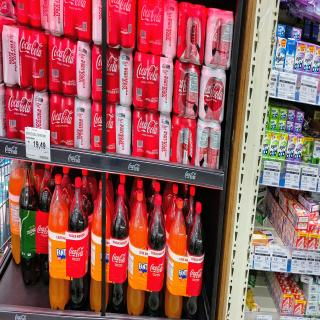beverage: (48, 172, 68, 307), (70, 174, 88, 308), (21, 160, 38, 292), (110, 183, 127, 313), (187, 199, 205, 320), (129, 189, 146, 315), (92, 182, 108, 311), (147, 196, 163, 316), (171, 196, 186, 320), (38, 160, 48, 291), (9, 158, 20, 268), (31, 24, 48, 94), (76, 40, 93, 100), (46, 29, 62, 92), (205, 3, 219, 70), (76, 100, 93, 154), (16, 27, 30, 91), (162, 54, 176, 113), (192, 4, 205, 65), (1, 18, 12, 88), (180, 3, 192, 63), (176, 58, 187, 122), (202, 59, 214, 117), (183, 113, 196, 166), (187, 61, 198, 123), (172, 114, 185, 166), (222, 1, 231, 72), (50, 95, 63, 144), (197, 117, 209, 169), (120, 102, 132, 152), (210, 118, 220, 177), (213, 68, 223, 120)
